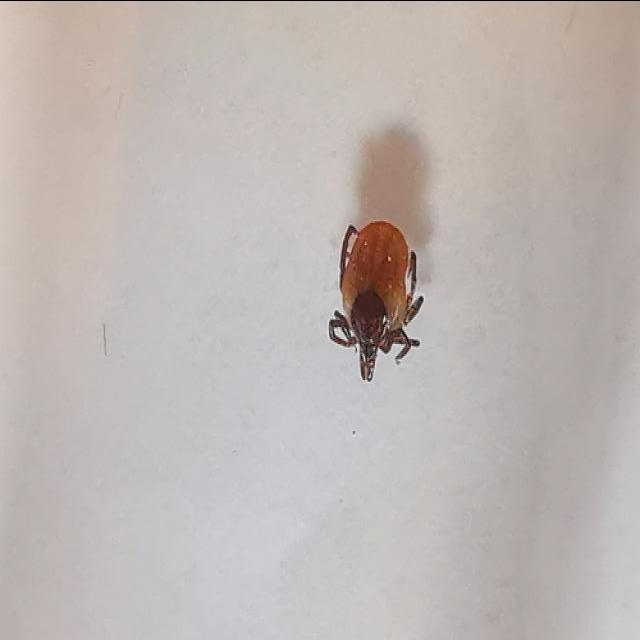Ixodes Ricinus-F: (330, 218, 426, 381)
